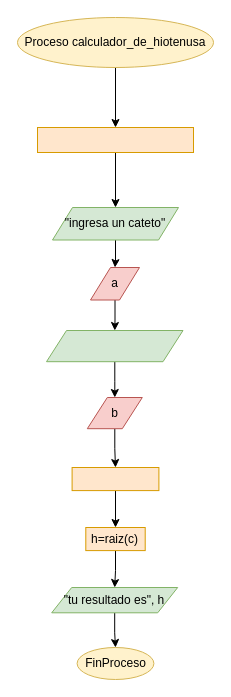
Image size: 231x697. Some labels were removed from this diagram. Here are the shapes that lost their labels. From the top down, the centre of each, then its label:
the point at 115,139: definir a, b, c, h como real
the point at 114,346: "ingresa otro cateto"
the point at 115,478: c=(a^4)+(b^4)
